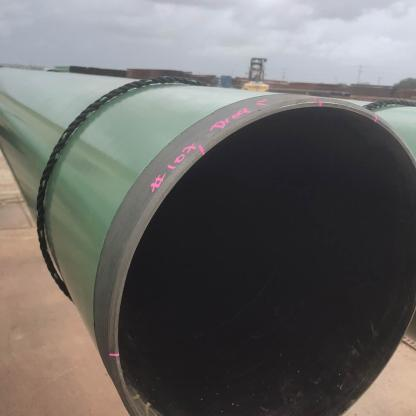Bevel: (290, 97, 317, 107), (256, 107, 263, 112)
